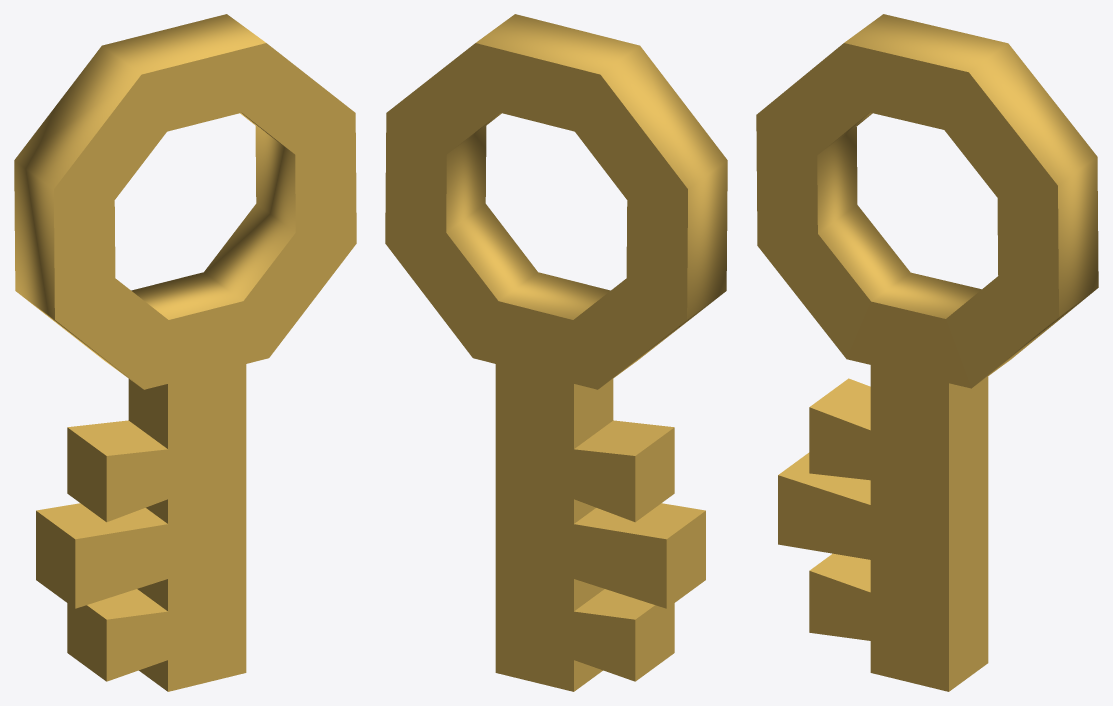
File: key.glb
3 renders of one model, left to right at view 1: azimuth 30°, elevation 25°; view 2: azimuth 150°, elevation 25°; view 3: azimuth 330°, elevation 25°, orthographic.
Visible parts, largest first — view 1: Key; view 2: Key; view 3: Key.
Boxes of the visible parts, <box> form: Key: <box>14,14,356,691</box>; Key: <box>385,14,727,691</box>; Key: <box>756,14,1098,691</box>.
Bounding box in the file's own units: 0.586 × 1.16 × 0.1327.
